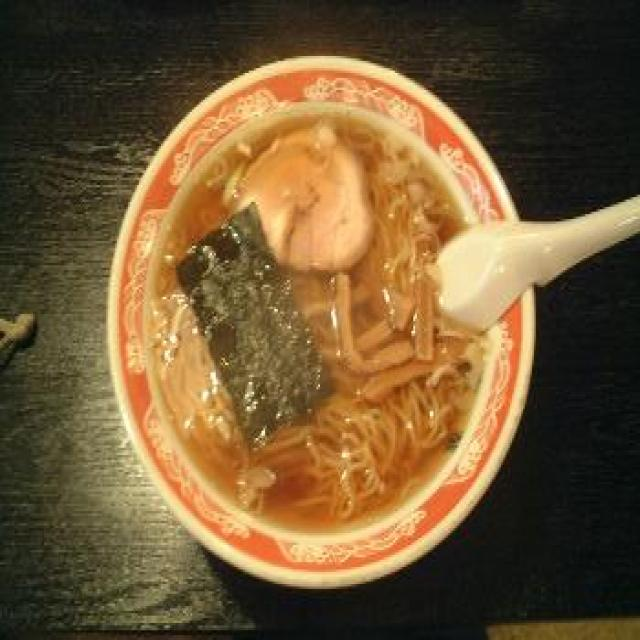面条主食: (148, 82, 640, 640)
